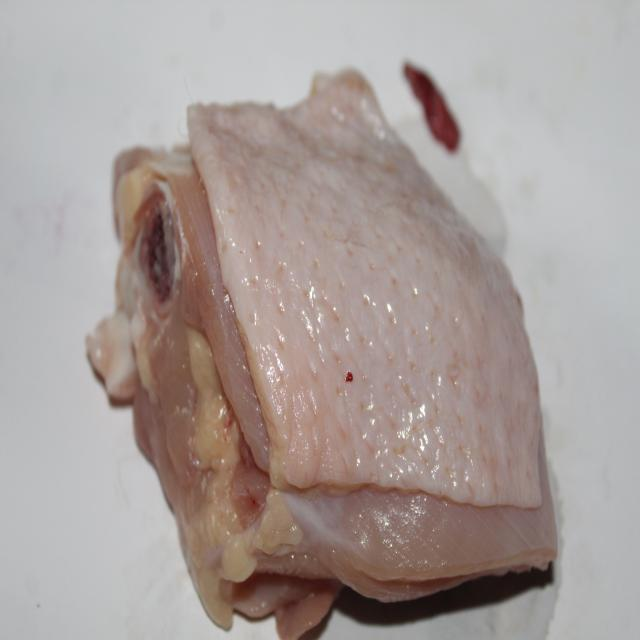chicken: (115, 106, 551, 625)
